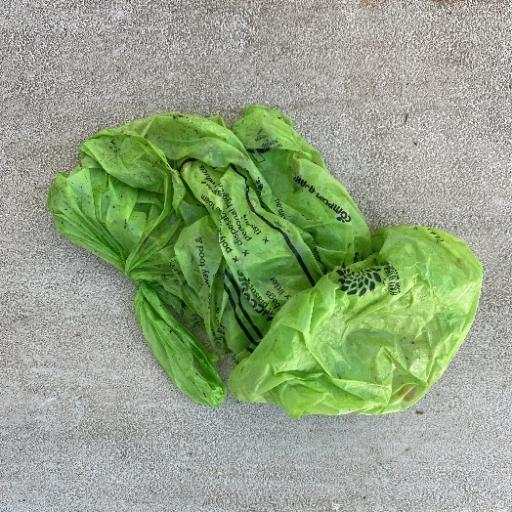Waste: (46, 104, 484, 419)
